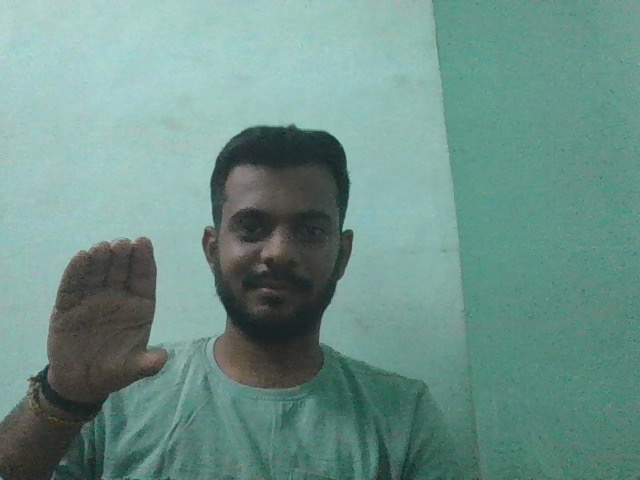no: (45, 232, 179, 399)
